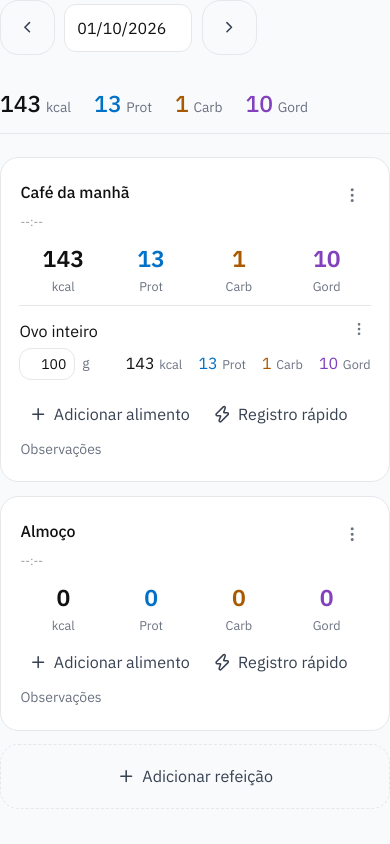
RM01 — long press on a meal opens the day's reorder sheet › lists every meal of the day, not just the one held
Expected: the 1st field showing "Café da manhã" is shown, [13,177,331,207]
Press the mouse on the 1st header named "Mais ações para Café da manhã" at (195, 205), box [19,177,371,233]
Wait 2000 ms
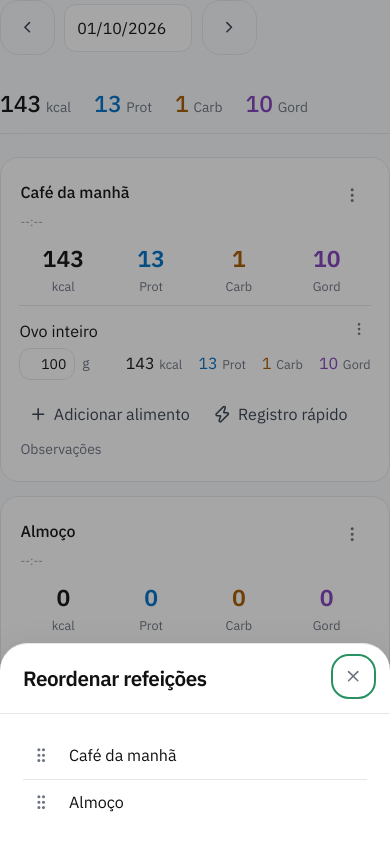
Result: the heading "Reordenar refeições" is shown at [23,663,206,695]
Result: the button named "Reordenar Café da manhã" is shown at [23,737,60,774]
Result: the button named "Reordenar Almoço" is shown at [23,784,60,821]
